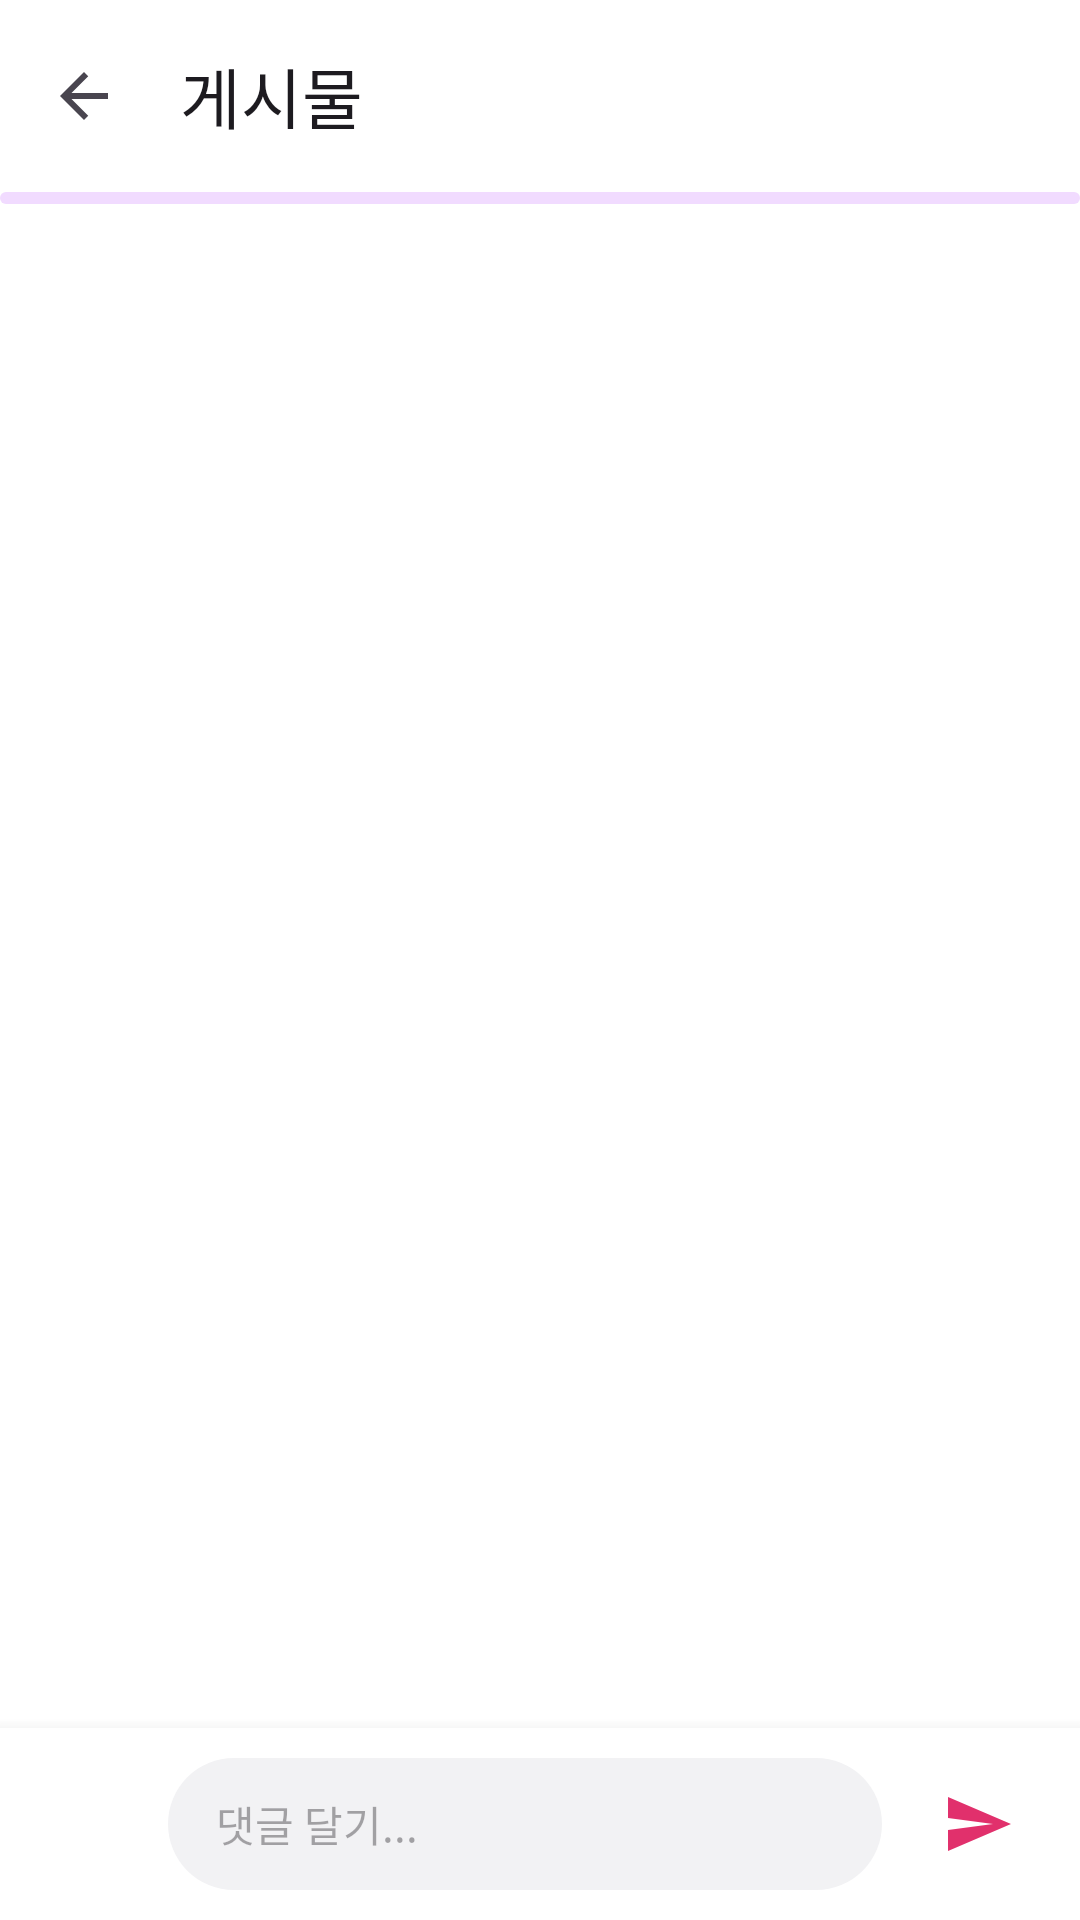

Screen size 1080*1920. Icon name, then its center in pixels as point (x, y):
보내기: point (979, 1824)
